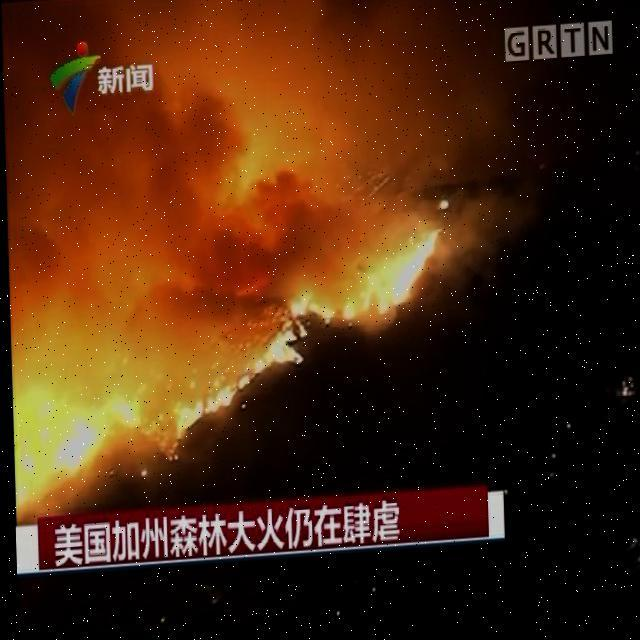Fire: (164, 218, 446, 458), (21, 392, 141, 490)
